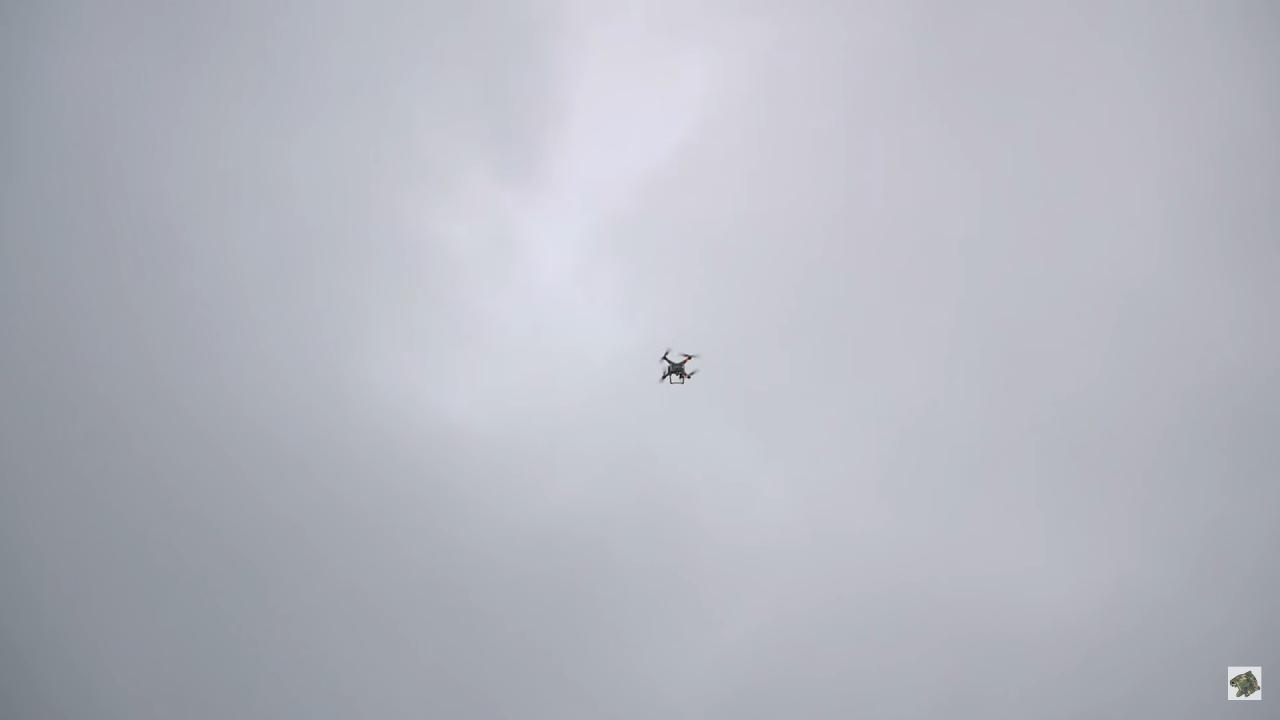Drone: (649, 339, 711, 394)
